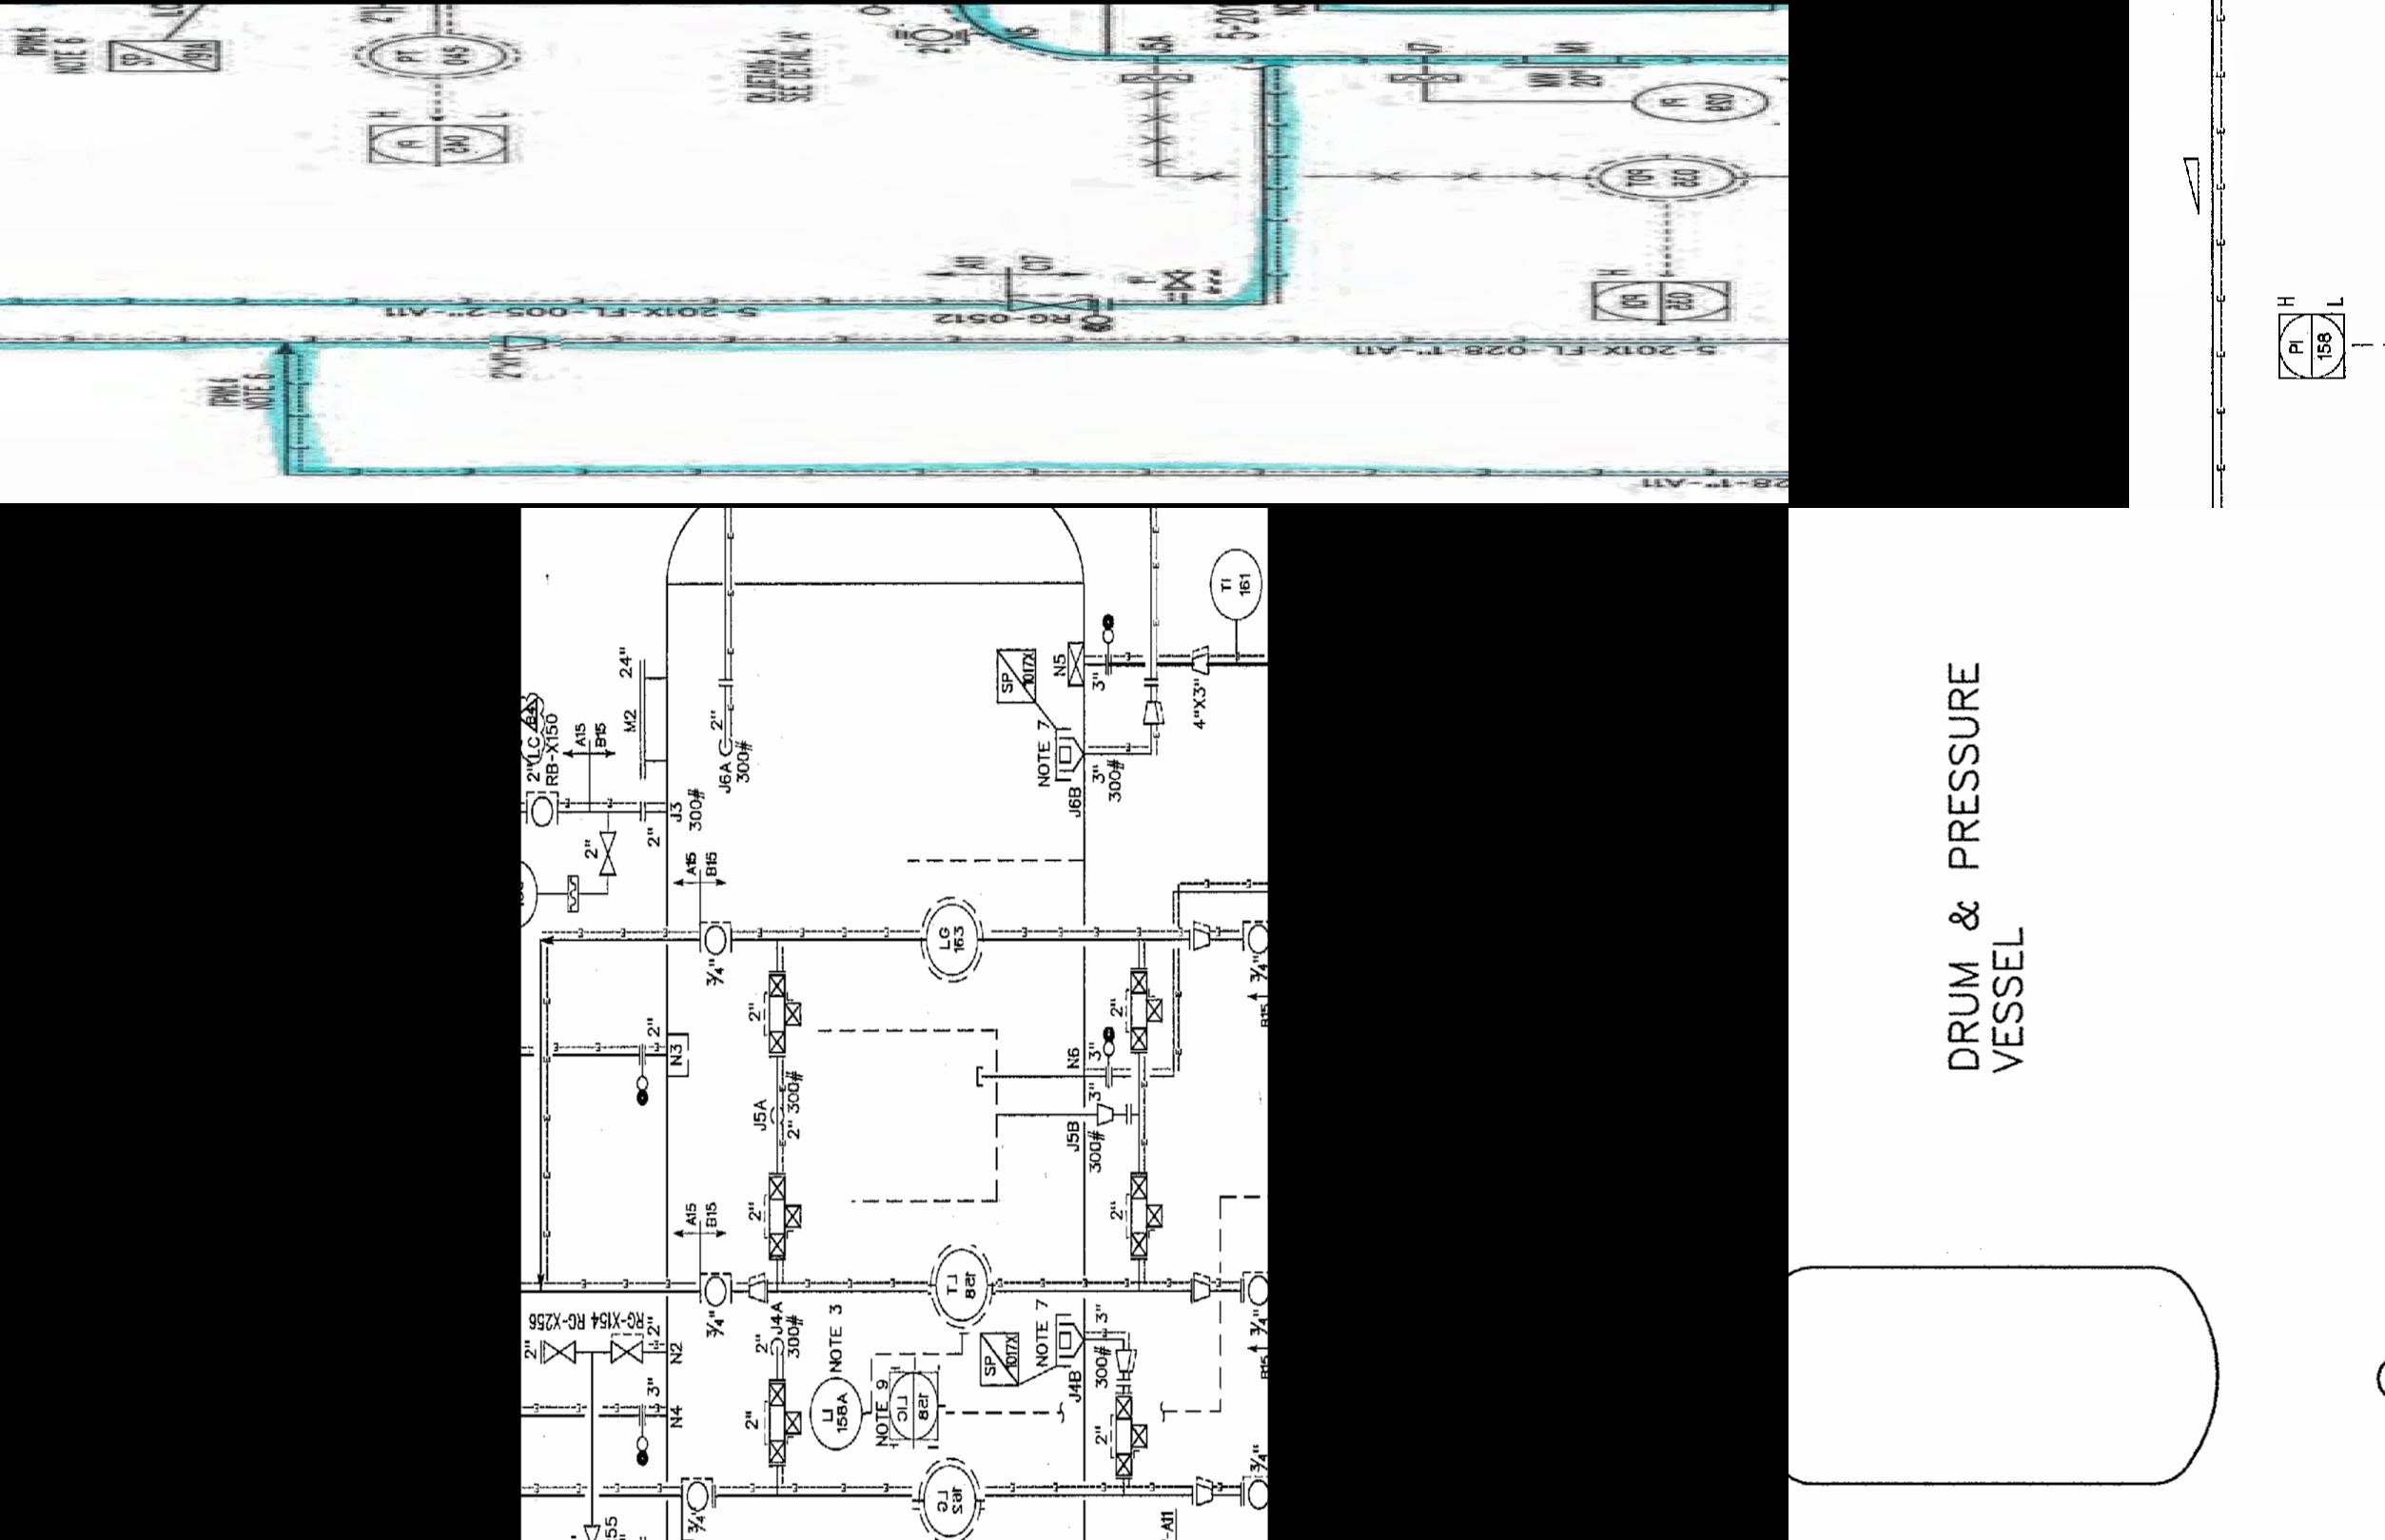2 WAY VALVE: (1104, 883, 1156, 984), (1123, 652, 1168, 763), (760, 867, 805, 968), (765, 657, 803, 753), (1123, 508, 1161, 558), (765, 508, 801, 554)
CONCENTRIC REDUCER: (1184, 758, 1217, 803), (490, 332, 565, 351), (1191, 959, 1217, 1003), (1095, 589, 1116, 631), (1114, 834, 1137, 869), (746, 767, 768, 798)
CONNECTOR: (767, 824, 787, 857)
DCS ACCESSIBLE: (1570, 276, 1747, 325), (335, 120, 522, 165), (2277, 306, 2350, 381), (888, 860, 946, 940)
DIAPHRAGM SEAL: (1088, 70, 1215, 85), (1372, 68, 1469, 85)
DRUM AND PRESSURE VESSEL: (1789, 1246, 2230, 1503)
END FLANGED: (1121, 587, 1137, 624)
FIELD INSTRUMENT: (1570, 153, 1747, 203), (351, 28, 520, 80), (1632, 78, 1785, 123), (911, 940, 984, 1032), (928, 735, 994, 824), (807, 864, 866, 942), (680, 966, 716, 1008), (702, 758, 734, 807), (902, 24, 968, 45), (1239, 966, 1267, 1008), (1239, 765, 1267, 807)
GATE VALVE: (998, 295, 1109, 311), (1158, 269, 1219, 292), (539, 826, 577, 860), (607, 829, 645, 862), (579, 999, 605, 1032)
SPECIAL PIPING ITEM: (85, 38, 228, 75), (972, 815, 1024, 886)
SPECTACLE BLIND OPEN: (1074, 287, 1128, 337), (628, 535, 654, 598), (631, 888, 650, 972), (1095, 508, 1118, 577)
